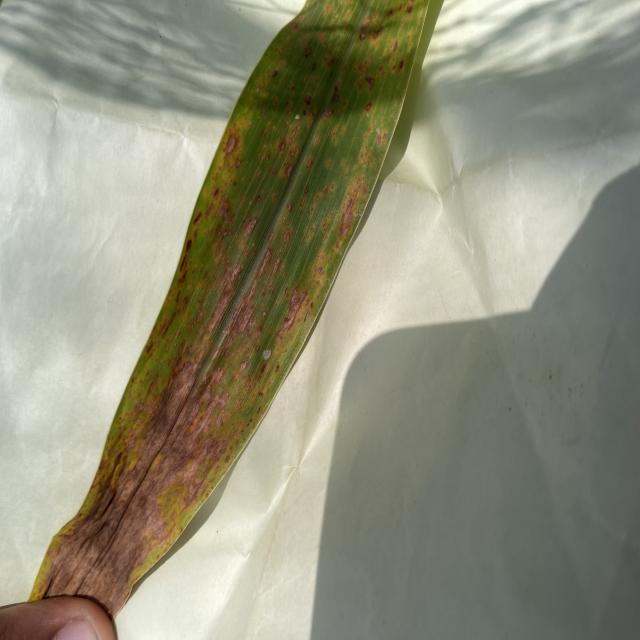millet_rust: (26, 0, 430, 640)
